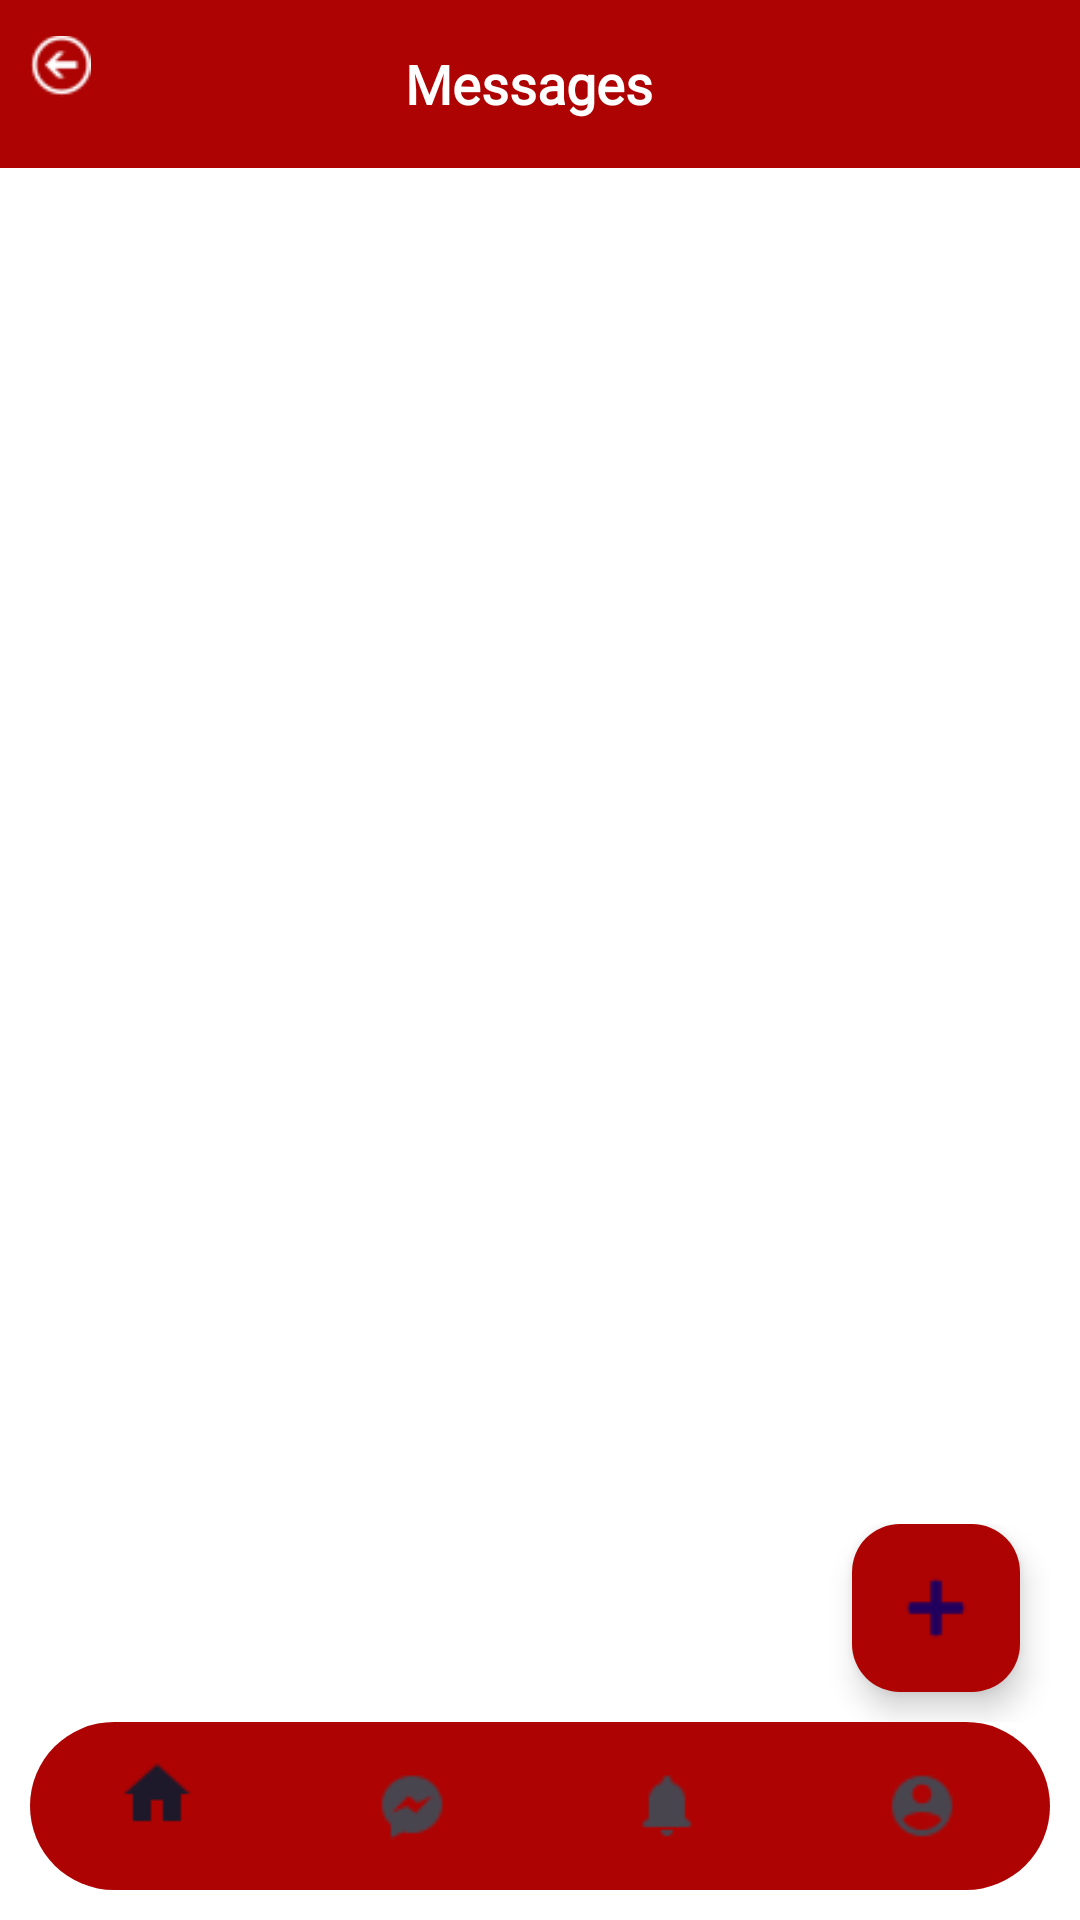

Locate icon controls on the screen. Image size 1080 × 1920, boxes as (x1, y1, x2, y2).
backarrow: (31, 36, 91, 95)
plus: (852, 1524, 1020, 1692)
